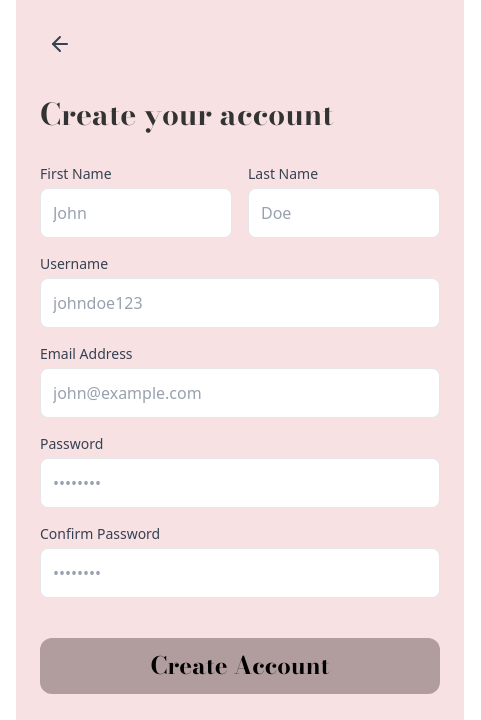
Scenario: RegisterForm Integration › affiche une erreur pour un email invalide
Note: Remplir TOUS les champs obligatoires (sauf email qui sera faux)
Type "Bill" into the field labelled "First Name" at {"x": 136, "y": 213}, box [40, 188, 232, 238]
Type "Gates" into the field labelled "Last Name" at {"x": 344, "y": 213}, box [248, 188, 440, 238]
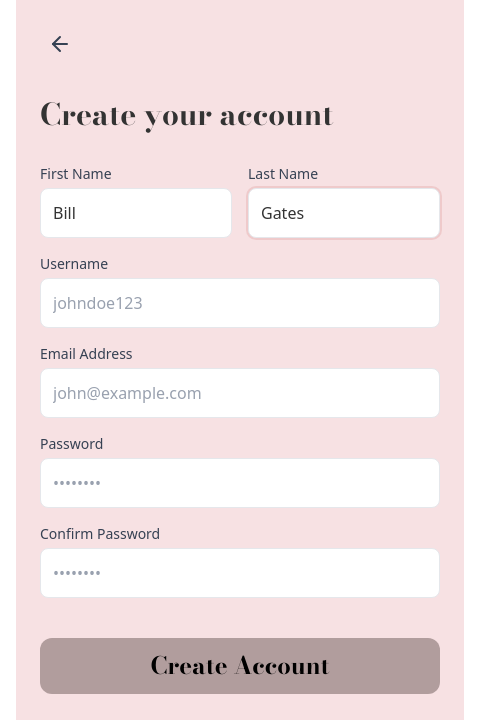
Type "billgates" into the field labelled "Username" at {"x": 240, "y": 303}, box [40, 278, 440, 328]
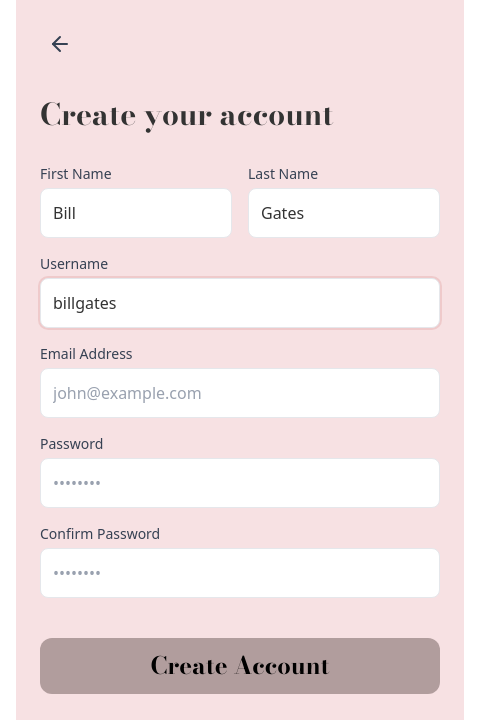
Note: Mettre un email CLAIREMENT invalide (pas d'arobase)
Type "bad-email-sans-arobase" into the field labelled "Email Address" at {"x": 240, "y": 393}, box [40, 368, 440, 418]
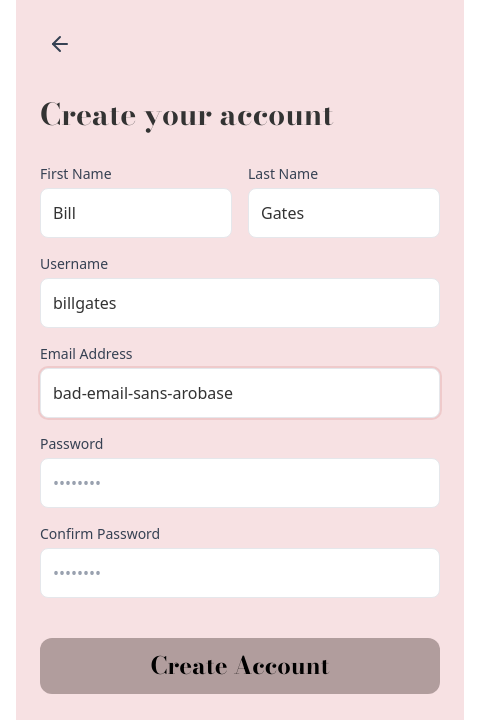
Note: Mettre des mots de passe valides
Type "Password123!" into the password field labelled "Password" at {"x": 240, "y": 483}, box [40, 458, 440, 508]
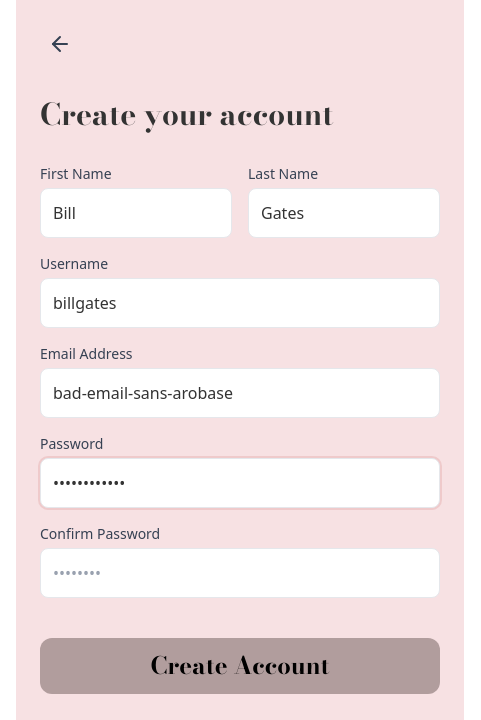
Type "Password123!" into the password field labelled "Confirm Password" at {"x": 240, "y": 573}, box [40, 548, 440, 598]
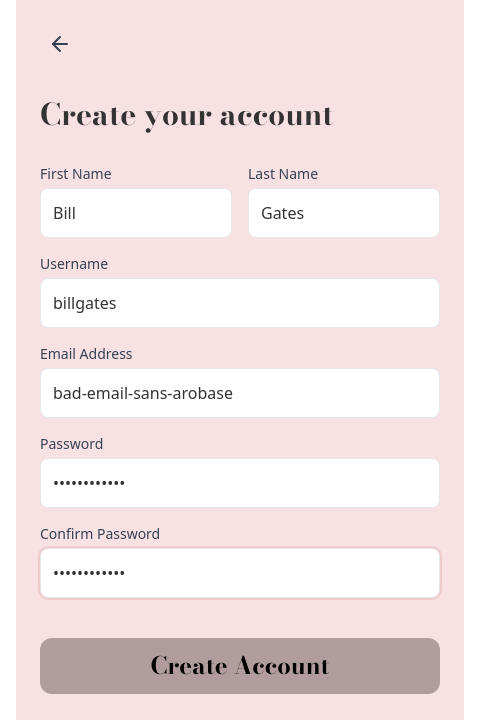
Click the button "Create Account" at {"x": 240, "y": 666}, box [40, 638, 440, 694]
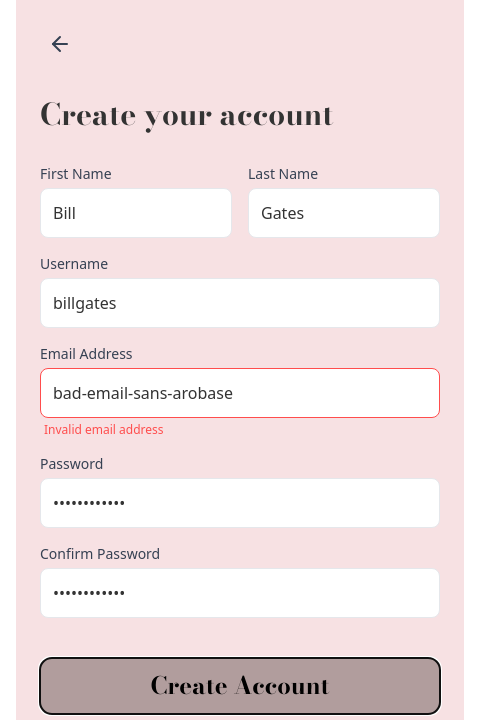
Expected: the text "Invalid email address" is shown, [44, 421, 164, 438]
